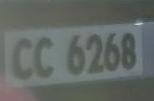2: (84, 29, 104, 77)
6: (64, 30, 87, 81), (101, 28, 123, 79)
8: (118, 26, 140, 78)
C: (32, 35, 57, 81), (12, 37, 34, 82)
